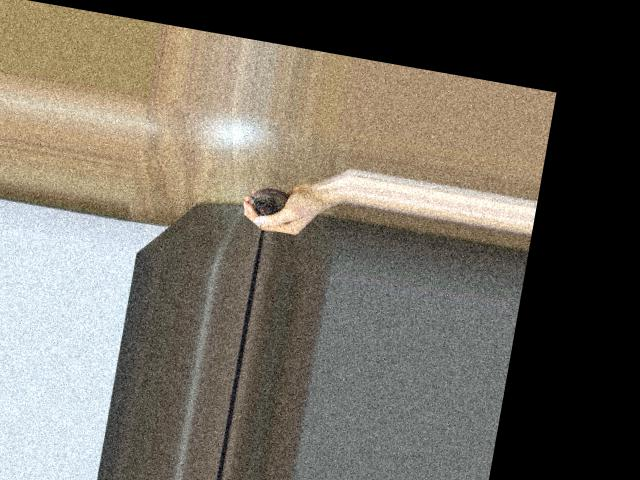beet: (241, 184, 290, 246)
